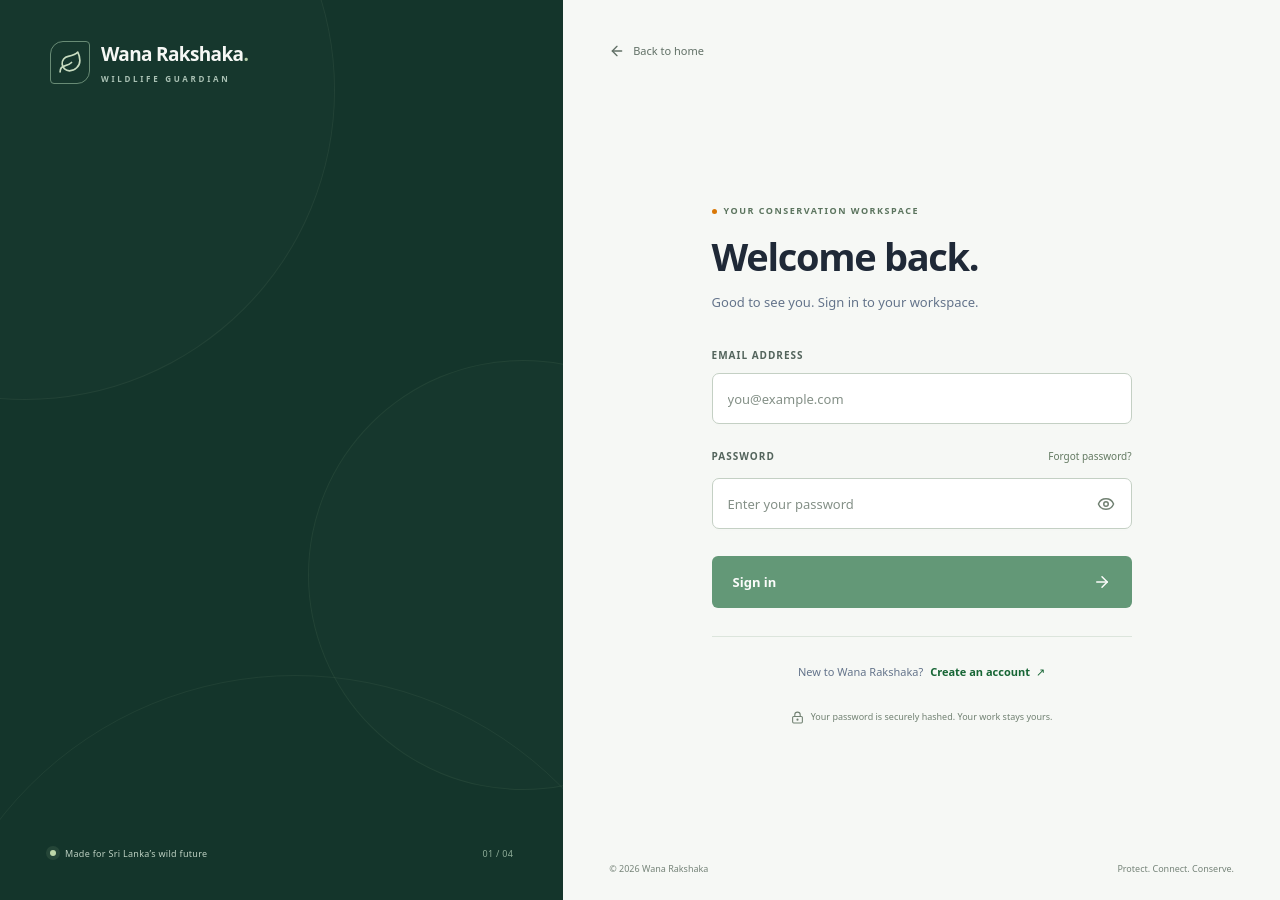
Test: account screens › shows accessible sign-in fields and toggles password visibility
Click the button named "Show password" at point(1106, 504), box x1=1085 y1=482 x2=1127 y2=525
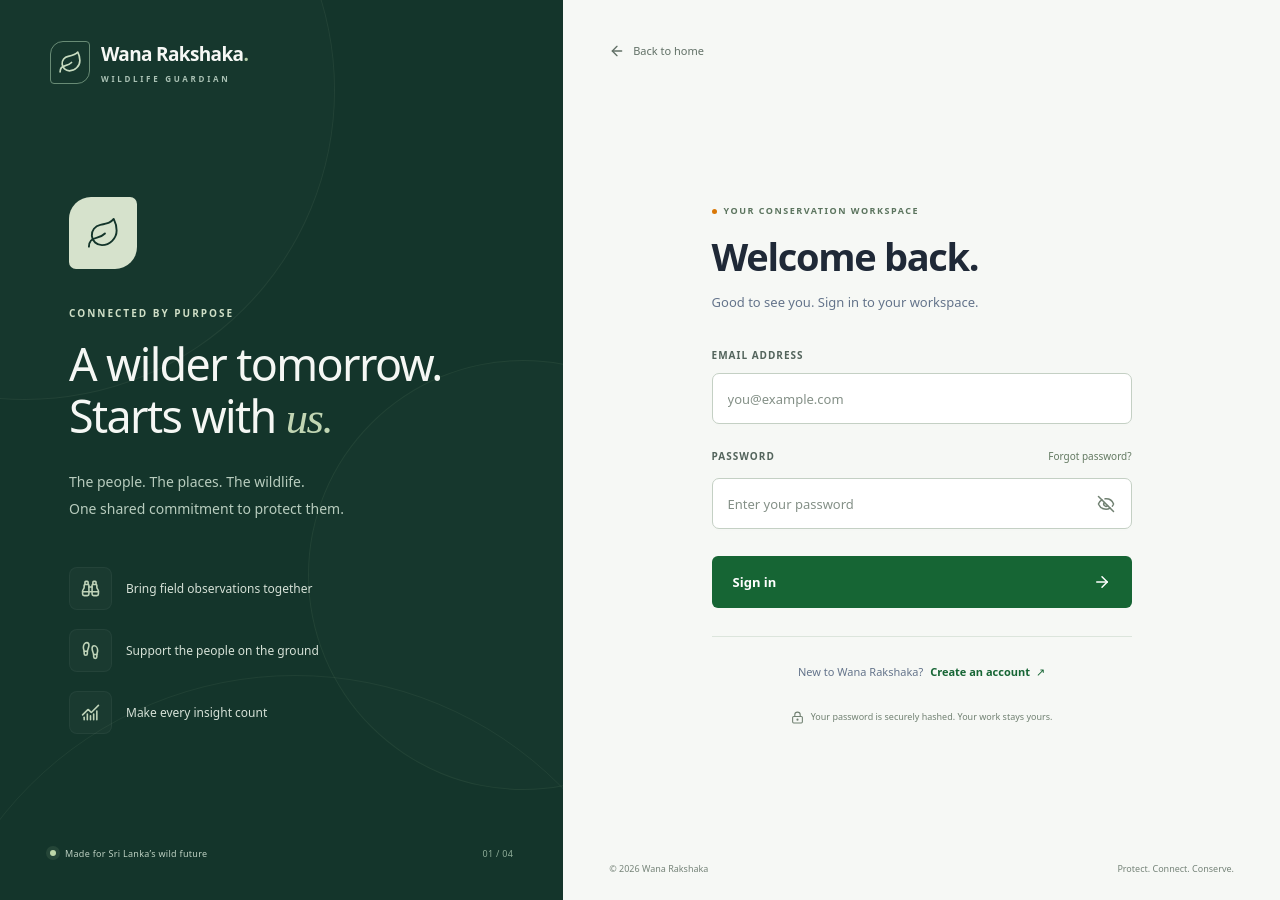
Expected: the button "Sign in" is enabled, x1=712 y1=556 x2=1132 y2=608
